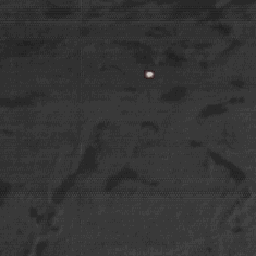Target: (144, 71, 154, 79)
